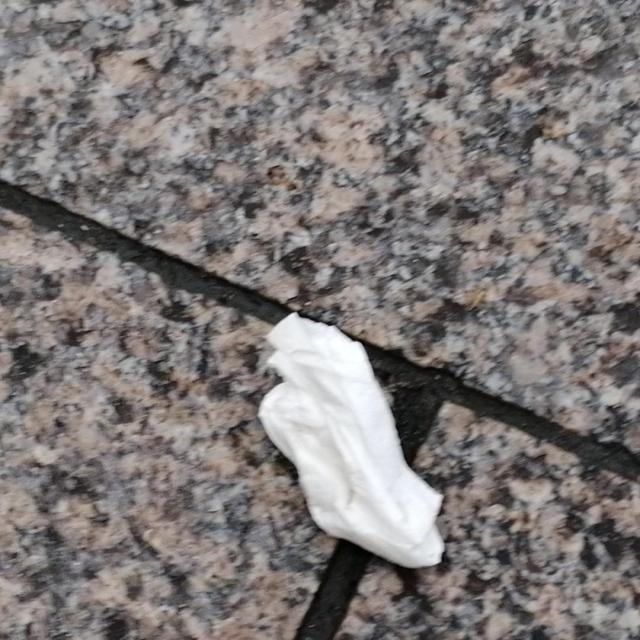Paper: (258, 310, 450, 574)
